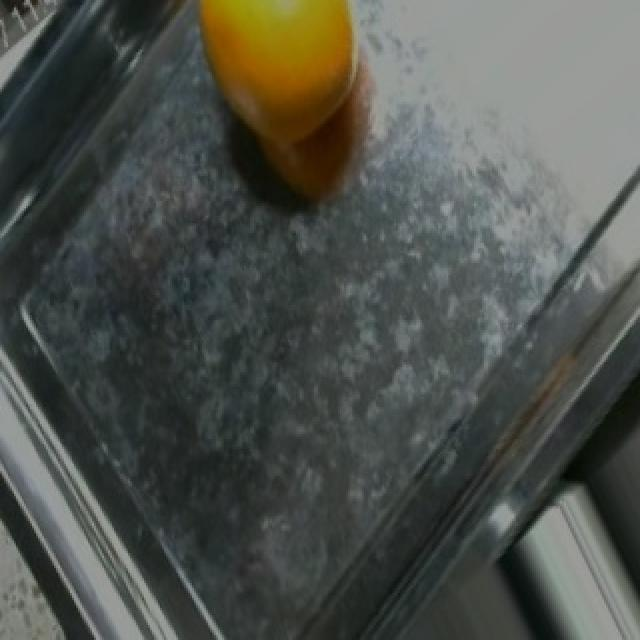Fruit: (172, 0, 386, 161)
